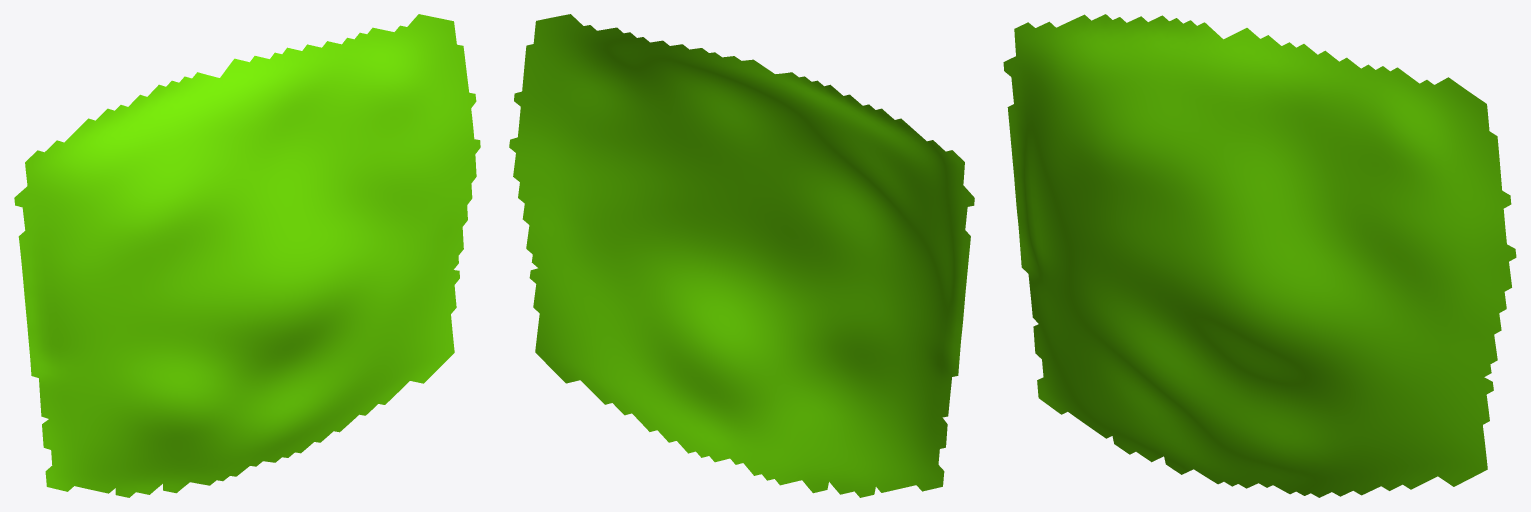
Rendered from SM_GPUI_seederground_50.fbx.
3 views of the same model, side by side, from view 1: azimuth 30°, elevation 25°; view 2: azimuth 150°, elevation 25°; view 3: azimuth 330°, elevation 25° (orthographic). The views are drawn at different scales.
Parts seen in each view (by area): view 1: SM_GPUI_seederground_50; view 2: SM_GPUI_seederground_50; view 3: SM_GPUI_seederground_50.
Part boxes in pixels (<box>): SM_GPUI_seederground_50: <box>14,14,480,497</box>; SM_GPUI_seederground_50: <box>509,14,974,497</box>; SM_GPUI_seederground_50: <box>1003,14,1516,497</box>.
Bounding box in the file's own units: 4621 × 3986 × 430.
1 material, 1 textured.
